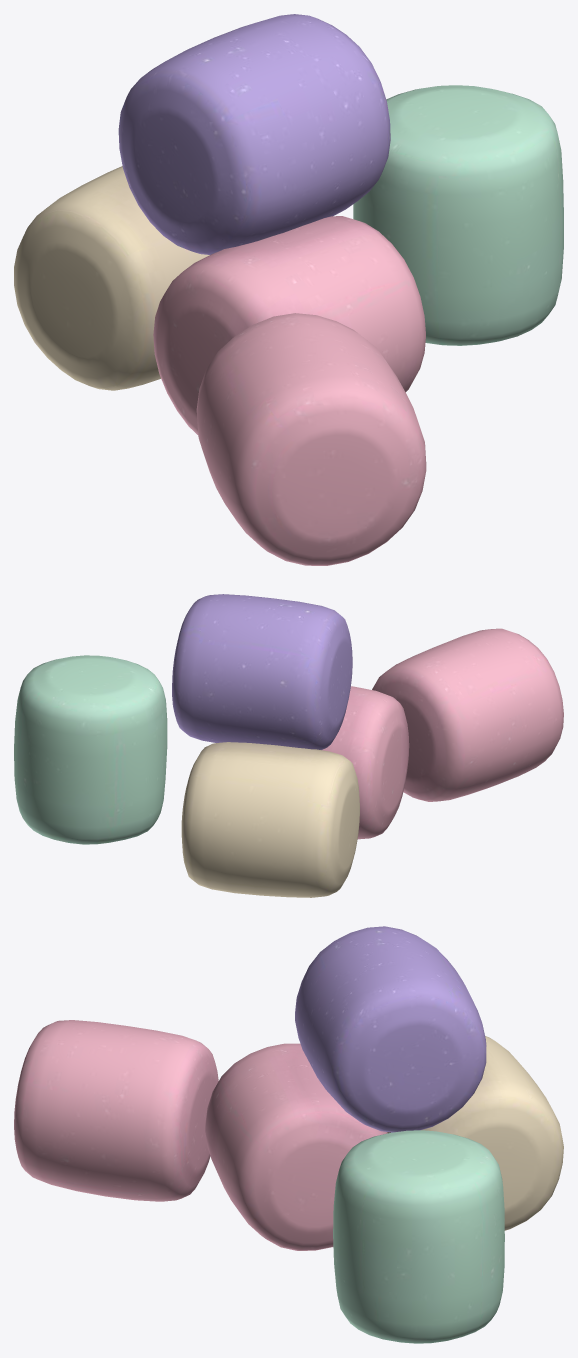
File: nubes.glb
3 views of the same model, one above another, from view 1: azimuth 30°, elevation 25°; view 2: azimuth 150°, elevation 25°; view 3: azimuth 270°, elevation 25° (orthographic). The views are drawn at different scales.
Visible parts, largest first — view 1: marshmallow_body; view 2: marshmallow_body; view 3: marshmallow_body.
Part boxes in pixels (x1,y1,x2,y2): marshmallow_body: (14,14,563,565); marshmallow_body: (14,594,563,897); marshmallow_body: (14,926,563,1343).
Bounding box in the file's own units: 0.0921 × 0.0576 × 0.102.
1 material, 1 textured.
